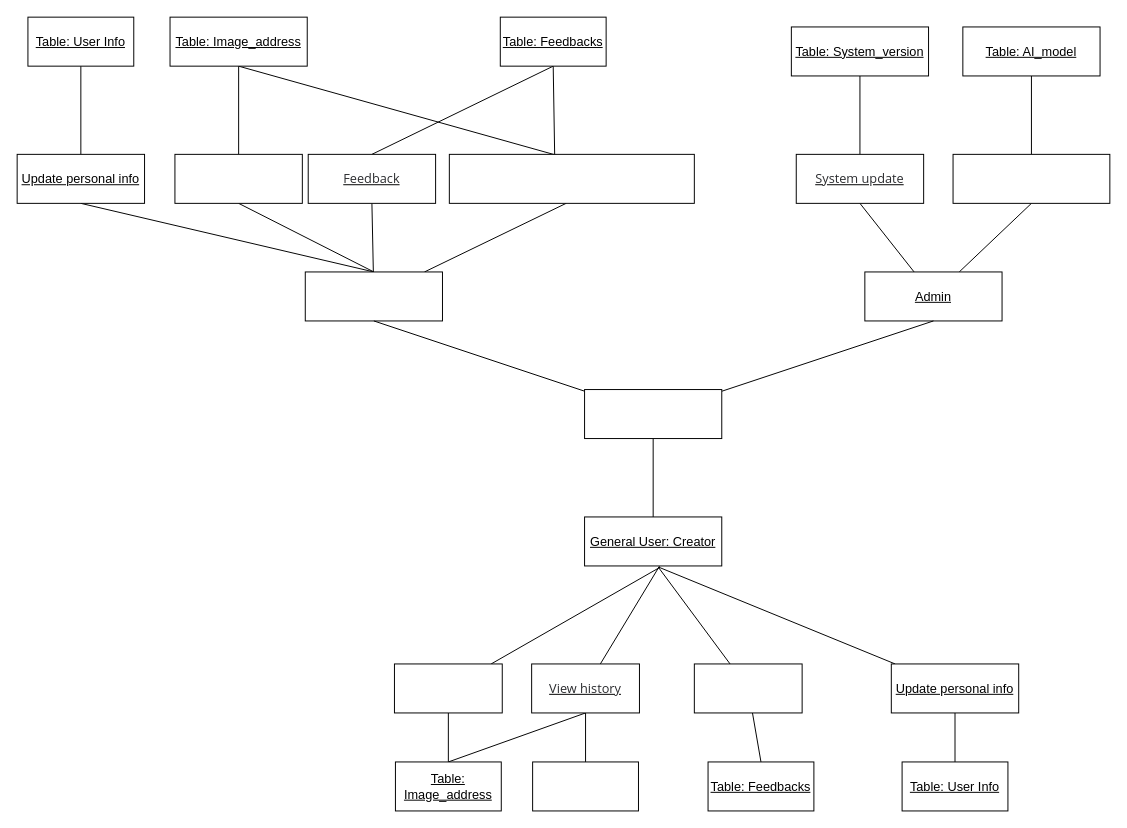
Image size: 1127x828. Some labels were removed from this diagram. The shapes that lost their labels are listed below. From the top down, each one's centre as x and y in pixels, then its label:
the point at 238,178: View Images
the point at 571,178: Manage contents (Image/Feedback)
the point at 1031,178: AI Model Modification
the point at 373,296: Supervisor
the point at 653,414: User Login
the point at 447,688: Image generation
the point at 747,688: View Feedbacks
the point at 585,786: Table: History
